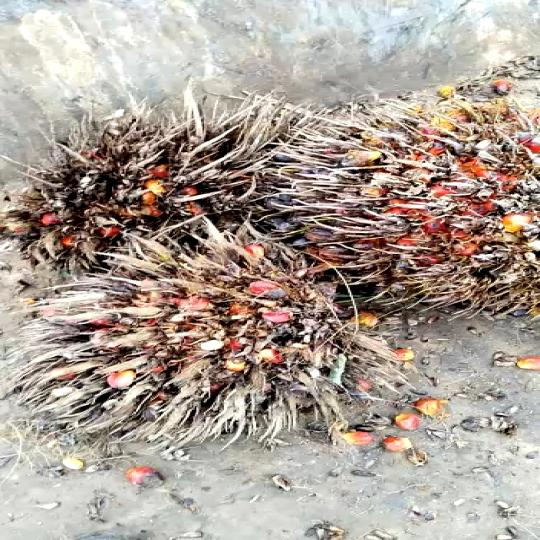terlalu masak: (1, 235, 384, 440), (287, 80, 540, 306), (0, 114, 305, 274)
